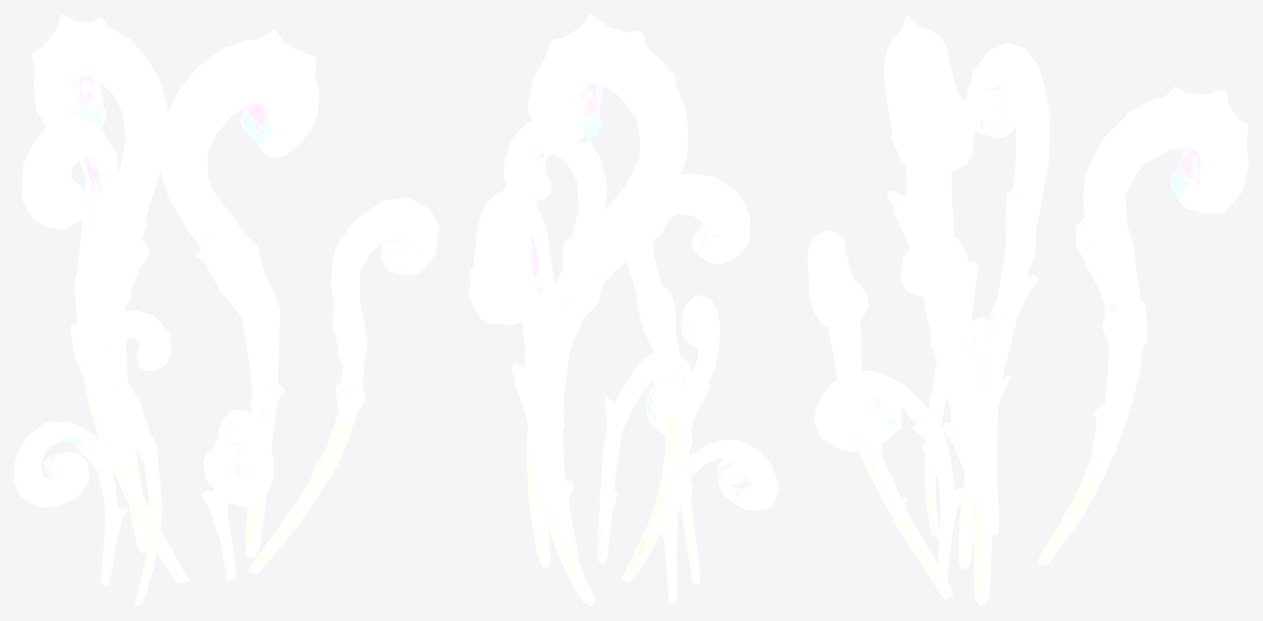
3 views of the same model, side by side, from view 1: azimuth 30°, elevation 25°; view 2: azimuth 150°, elevation 25°; view 3: azimuth 270°, elevation 25° (orthographic). The views are drawn at different scales.
Visible parts, largest first — view 1: SM_GF_Cobra_Lily_02_LOD0; view 2: SM_GF_Cobra_Lily_02_LOD0; view 3: SM_GF_Cobra_Lily_02_LOD0.
Boxes of the visible parts, bbox=[...] form: SM_GF_Cobra_Lily_02_LOD0: bbox=[14, 14, 439, 606]; SM_GF_Cobra_Lily_02_LOD0: bbox=[468, 14, 778, 606]; SM_GF_Cobra_Lily_02_LOD0: bbox=[807, 14, 1248, 606].
Bounding box in the file's own units: 0.4983 × 0.7547 × 0.5328.
Materials: 1 (1 with a texture image).
